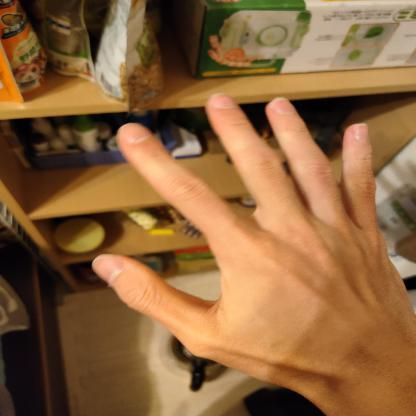bare_hand: (86, 83, 415, 397)
